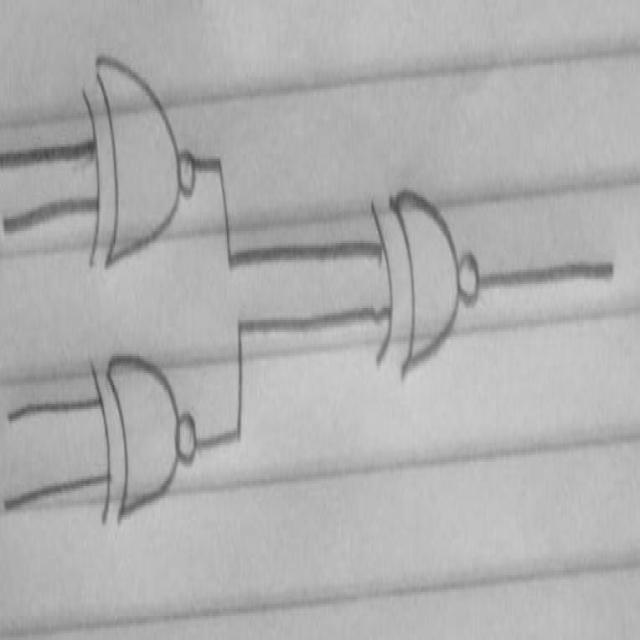XNOR: (73, 30, 205, 295), (357, 146, 494, 383), (82, 331, 213, 541)
